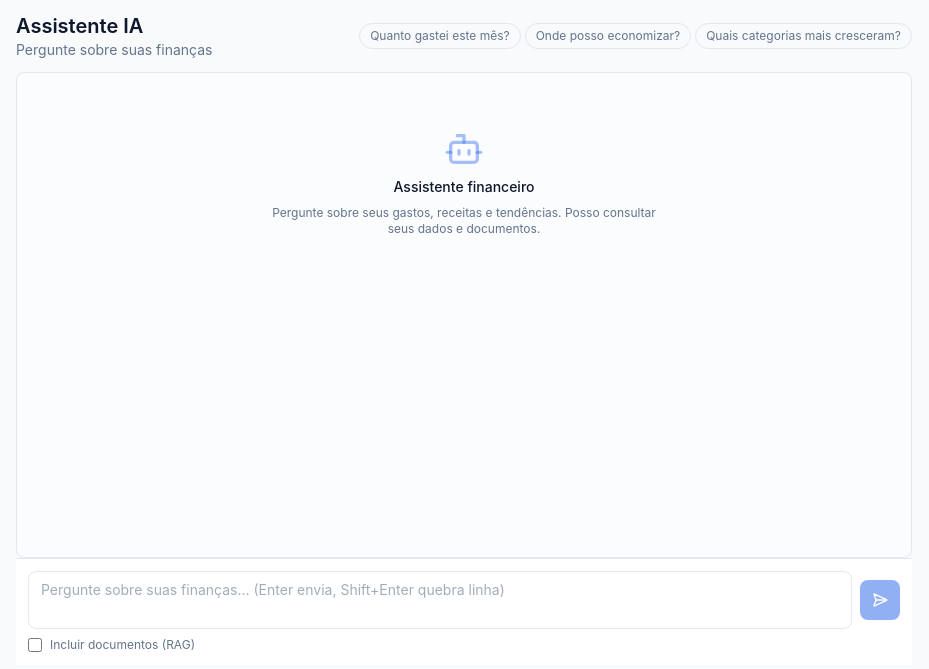
Test: ChatView › trata 503 com mensagem amigável
The width and height of the screenshot is (929, 669).
Replace the text in the text box with test id "chat-input" with "teste" at (440, 600), box [28,571,852,629]
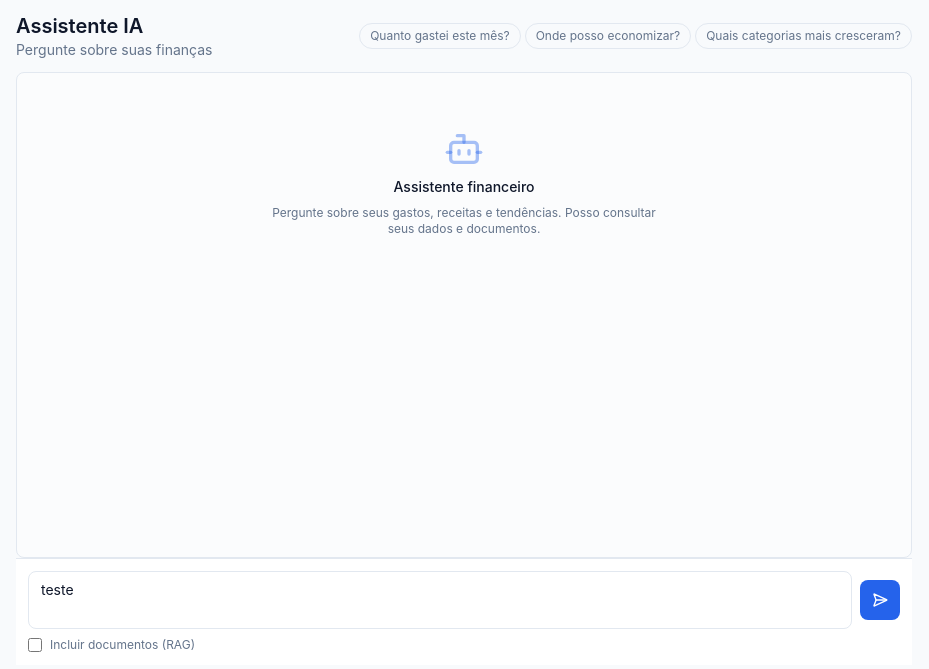
Click the button with test id "chat-send" at (880, 600), box [860,580,900,620]
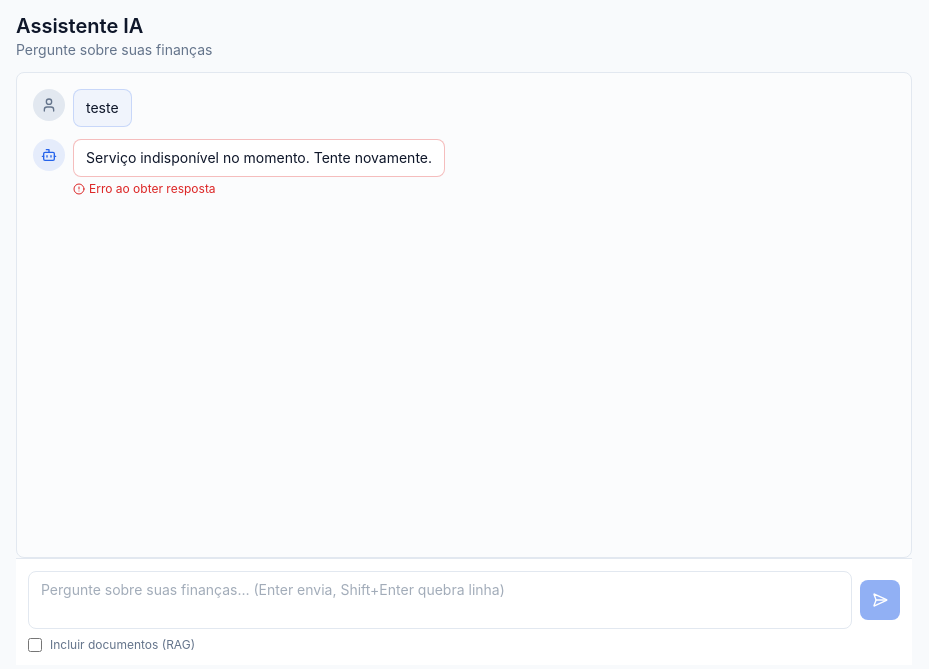
Check: the text "Serviço indisponível" is shown, box [86,149,432,166]
